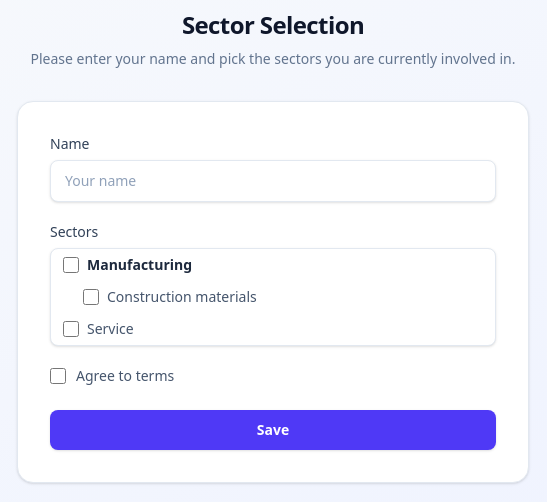
App › shows selected count badge
Click the text "Manufacturing" at coordinates (140, 265), box [87, 255, 192, 275]
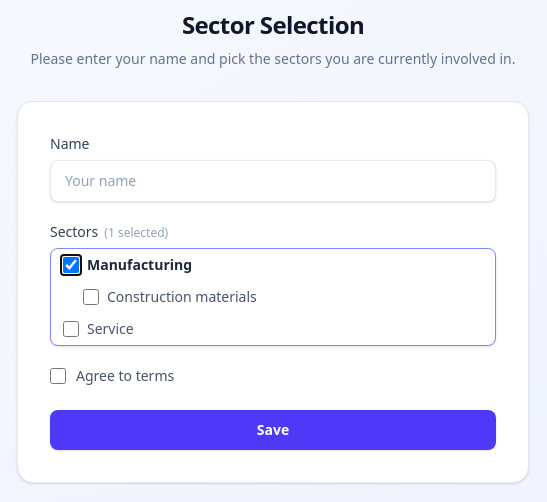
Click the text "Service" at coordinates (110, 329), box [87, 319, 134, 339]
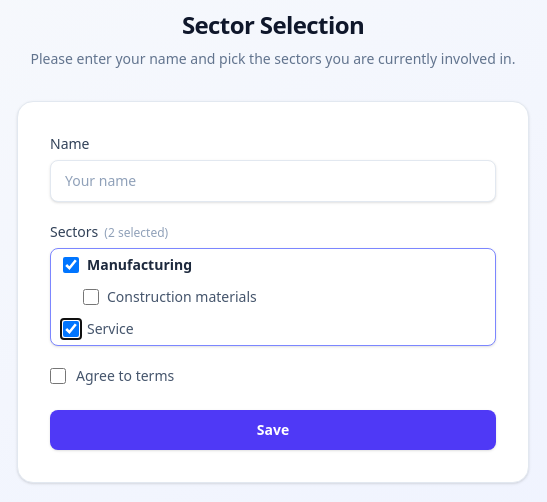
Result: the text "(2 selected)" is shown at [104, 224, 168, 241]
